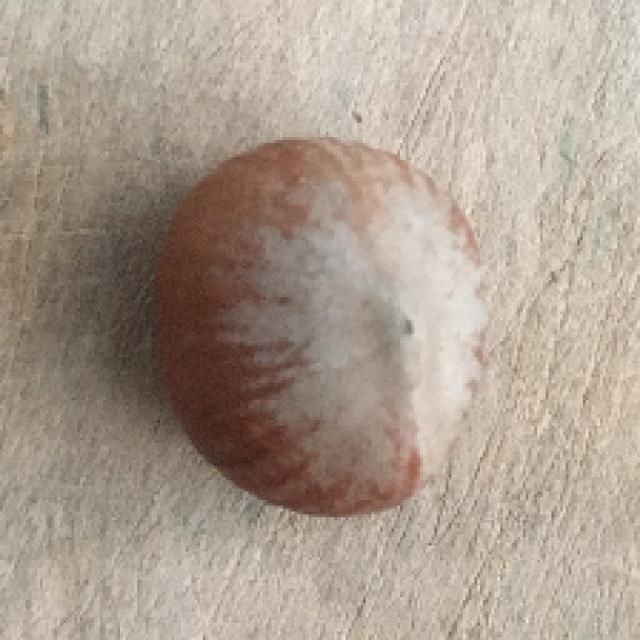qualityHazelnut: (152, 134, 500, 526)
